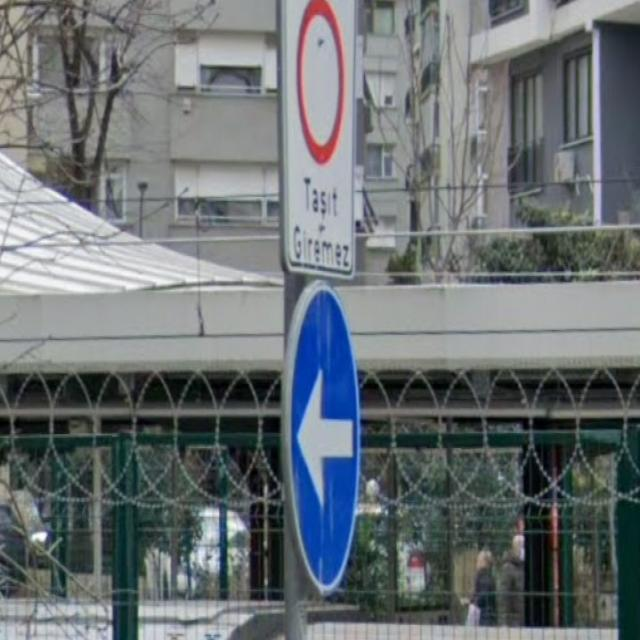Turn Left: (290, 288, 364, 595)
